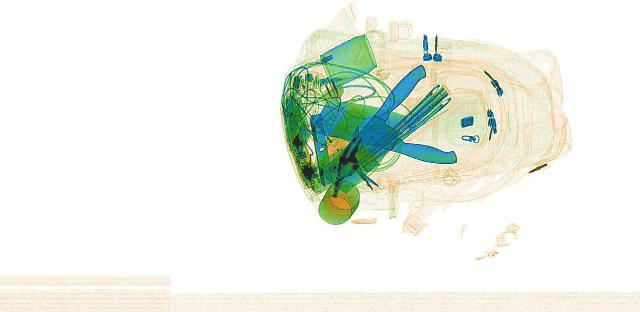Knife: (300, 62, 470, 186), (290, 96, 490, 166)
